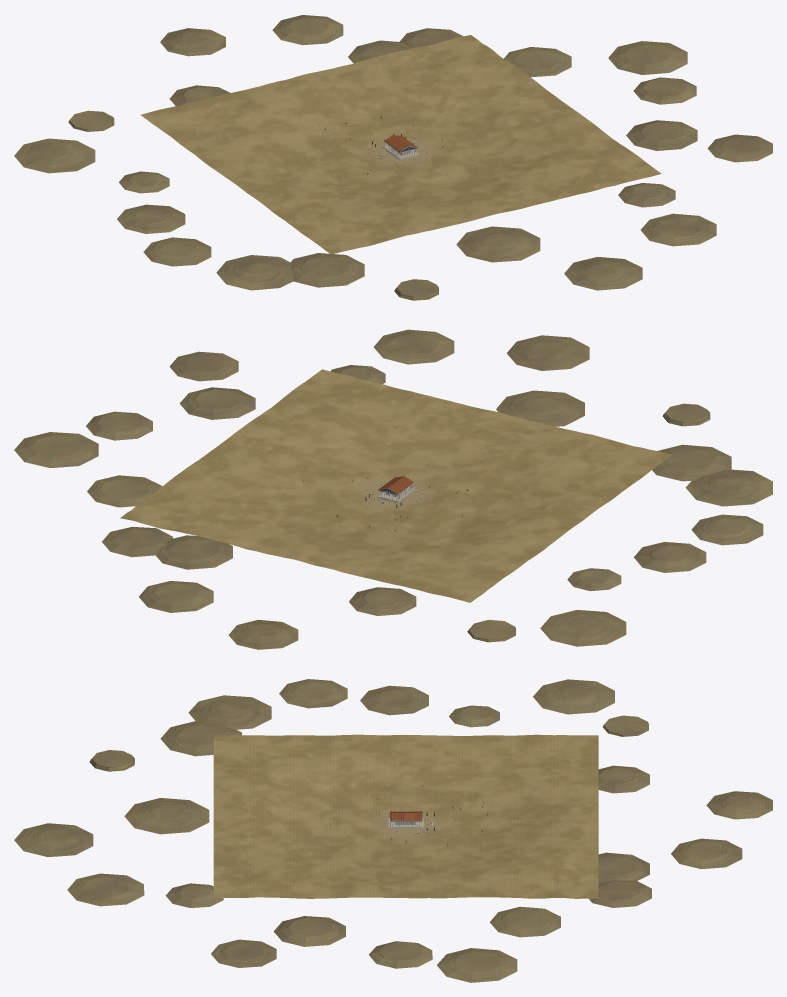
File: aizanoi-zeus-tapinagi-baked.glb
3 renders of one model, top to bottom at view 1: azimuth 30°, elevation 25°; view 2: azimuth 150°, elevation 25°; view 3: azimuth 270°, elevation 25°, orthographic. The views are drawn at different scales.
Parts seen in each view (by area): view 1: aizanoi-zeus-tapinagi-terrain, aizanoi-zeus-tapinagi-ground, aizanoi-zeus-tapinagi-near; view 2: aizanoi-zeus-tapinagi-terrain, aizanoi-zeus-tapinagi-ground, aizanoi-zeus-tapinagi-near; view 3: aizanoi-zeus-tapinagi-terrain, aizanoi-zeus-tapinagi-ground, aizanoi-zeus-tapinagi-near.
Part boxes in pixels (<box>): aizanoi-zeus-tapinagi-terrain: <box>141,35,661,254</box>; aizanoi-zeus-tapinagi-ground: <box>14,15,772,300</box>; aizanoi-zeus-tapinagi-near: <box>377,135,423,161</box>; aizanoi-zeus-tapinagi-terrain: <box>120,369,671,602</box>; aizanoi-zeus-tapinagi-ground: <box>14,329,772,649</box>; aizanoi-zeus-tapinagi-near: <box>370,476,419,505</box>; aizanoi-zeus-tapinagi-terrain: <box>213,734,598,898</box>; aizanoi-zeus-tapinagi-ground: <box>14,679,772,982</box>; aizanoi-zeus-tapinagi-near: <box>383,811,432,830</box>.
Size of the model in its own units: 1170 by 26.19 by 1235.
27 materials, 20 textured.
